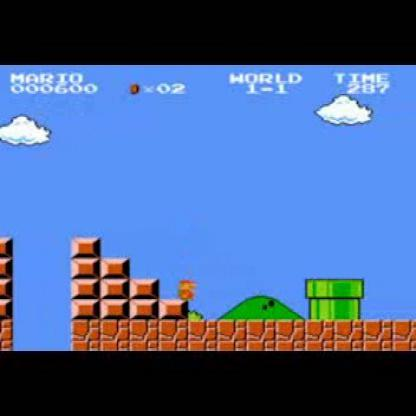Hoyo: (7, 318, 77, 350)
